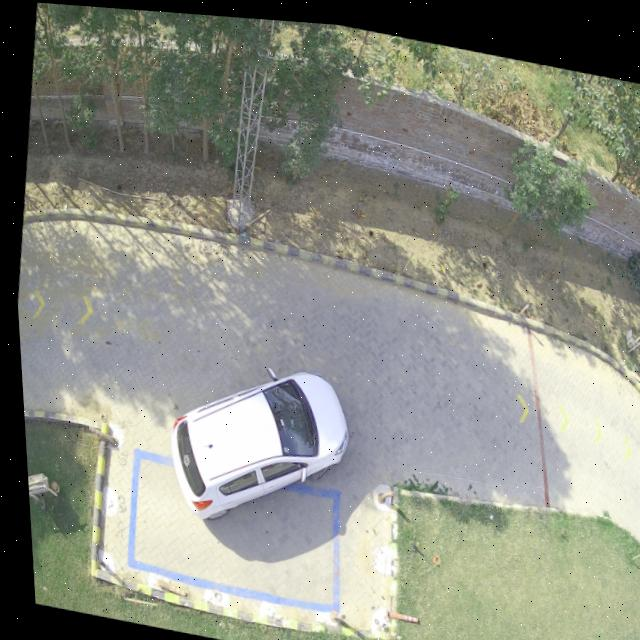car: (166, 368, 344, 519)
